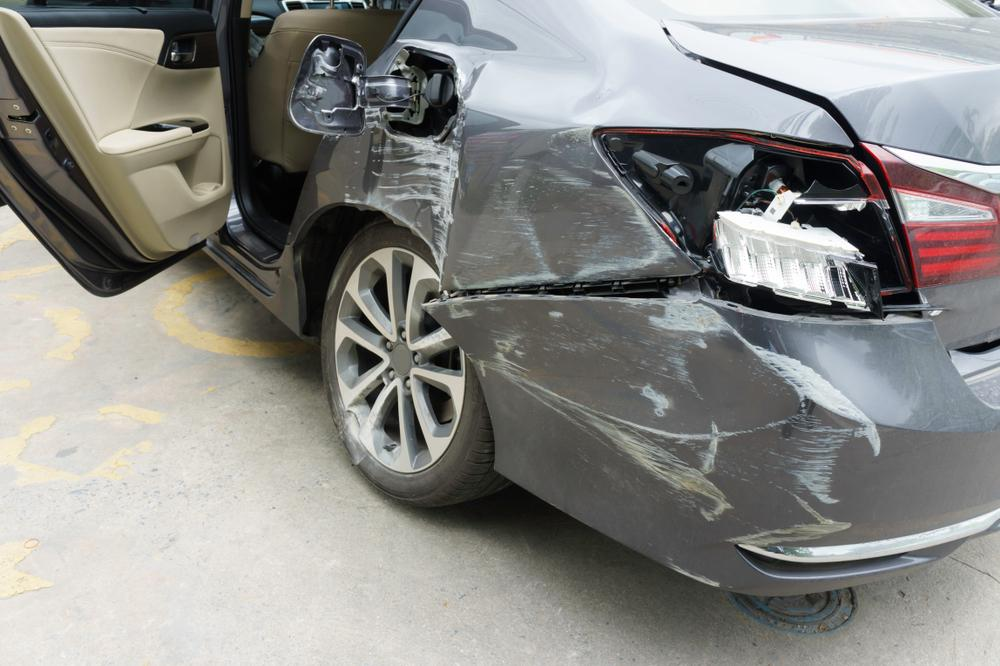dent: (407, 5, 597, 107), (347, 122, 459, 262)
lamp broken: (596, 125, 923, 318)
scratch: (469, 302, 886, 549), (449, 124, 682, 292)
